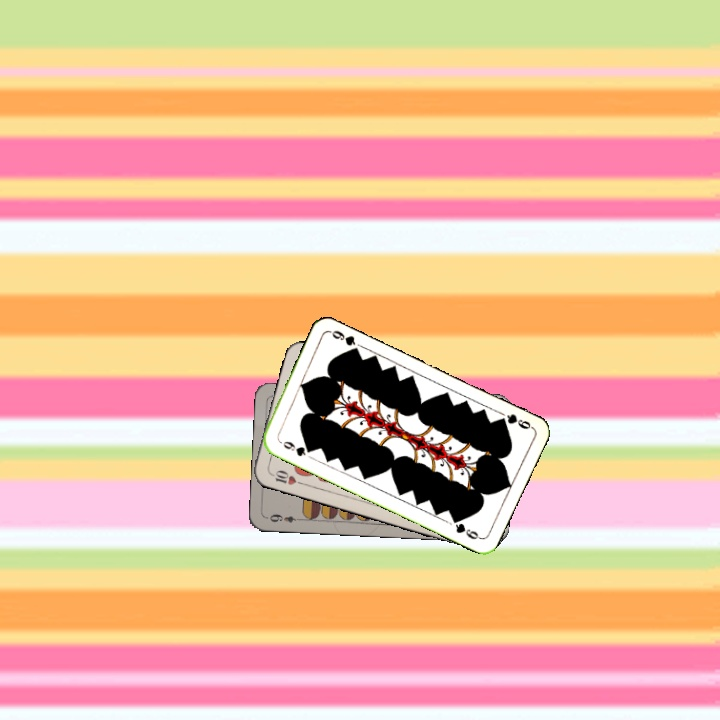E9: (264, 510, 304, 525)
G9: (275, 436, 315, 459), (494, 410, 535, 432)
H10: (265, 466, 305, 488)
